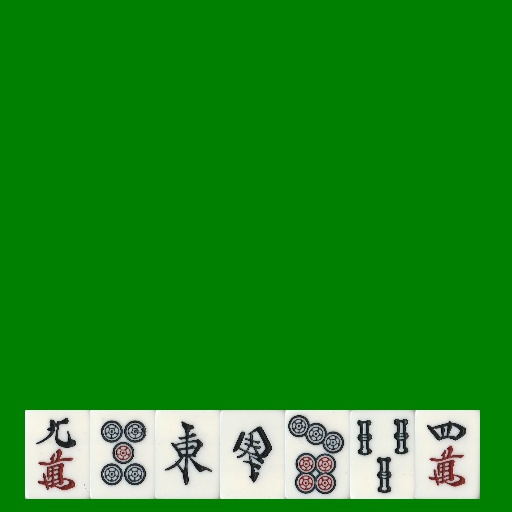3s: (350, 410, 415, 499)
4m: (415, 410, 480, 499)
5p: (90, 410, 155, 499)
7p: (285, 410, 350, 499)
9m: (25, 410, 90, 499)
east: (155, 410, 220, 499)
south: (220, 410, 285, 499)
